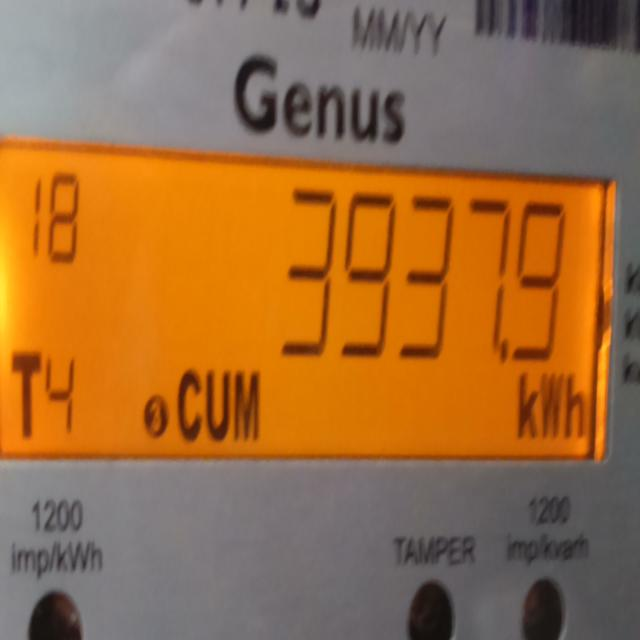.: (499, 333, 510, 369)
1: (30, 169, 46, 265)
3: (277, 175, 341, 372), (393, 179, 458, 367)
7: (461, 186, 511, 352)
8: (48, 166, 94, 272)
9: (340, 191, 400, 361), (514, 189, 571, 367)
